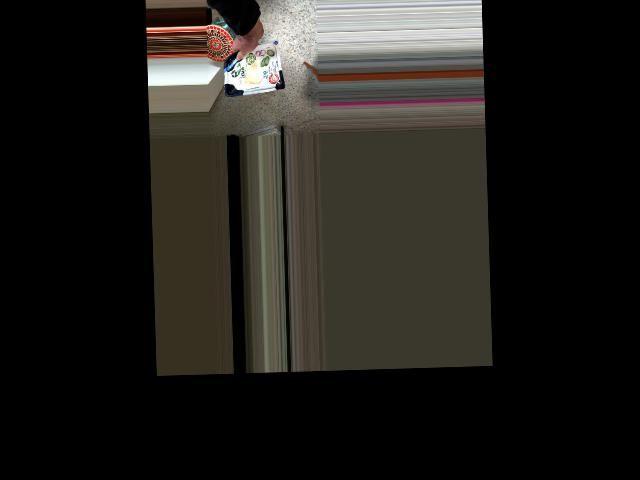cheese: (230, 31, 283, 79)
